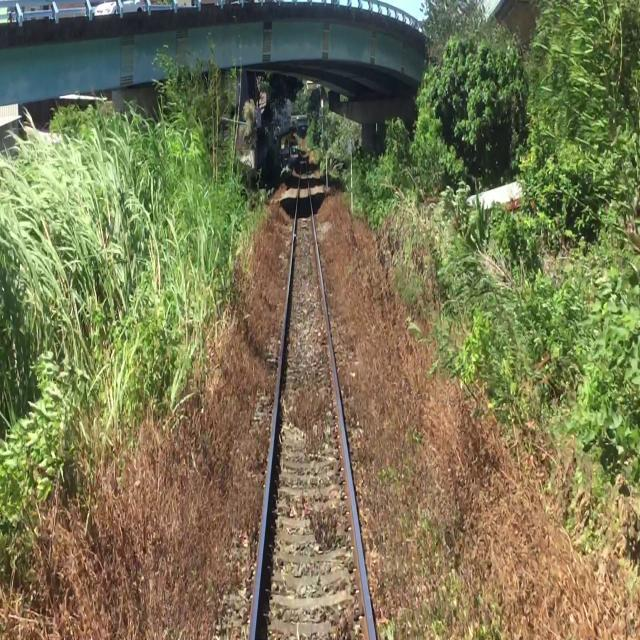track: (245, 141, 378, 640)
